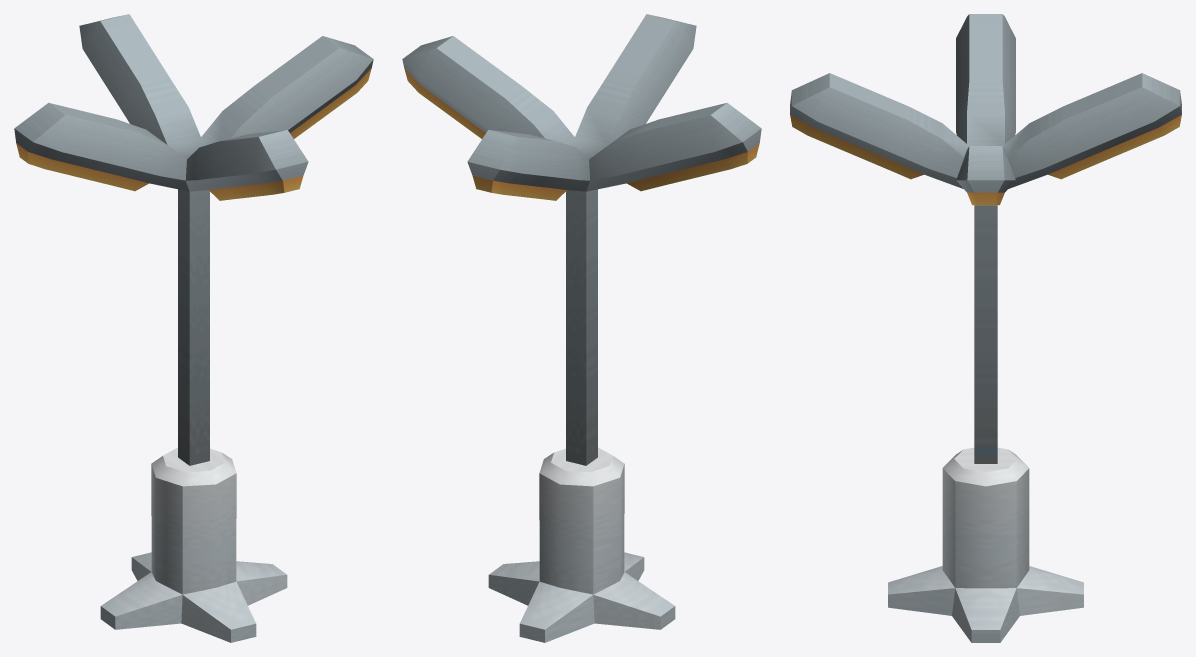
The model's file is lights.glb.
3 renders of one model, left to right at view 1: azimuth 30°, elevation 25°; view 2: azimuth 150°, elevation 25°; view 3: azimuth 270°, elevation 25°, orthographic.
Parts seen in each view (by area): view 1: lights; view 2: lights; view 3: lights.
Boxes of the visible parts, box(x1,y1,x2,y2) form: lights: box(14, 14, 373, 642); lights: box(402, 14, 761, 642); lights: box(790, 14, 1181, 642).
Size of the model in its own units: 0.68 by 0.9984 by 0.68.
Materials: 1 (1 with a texture image).
